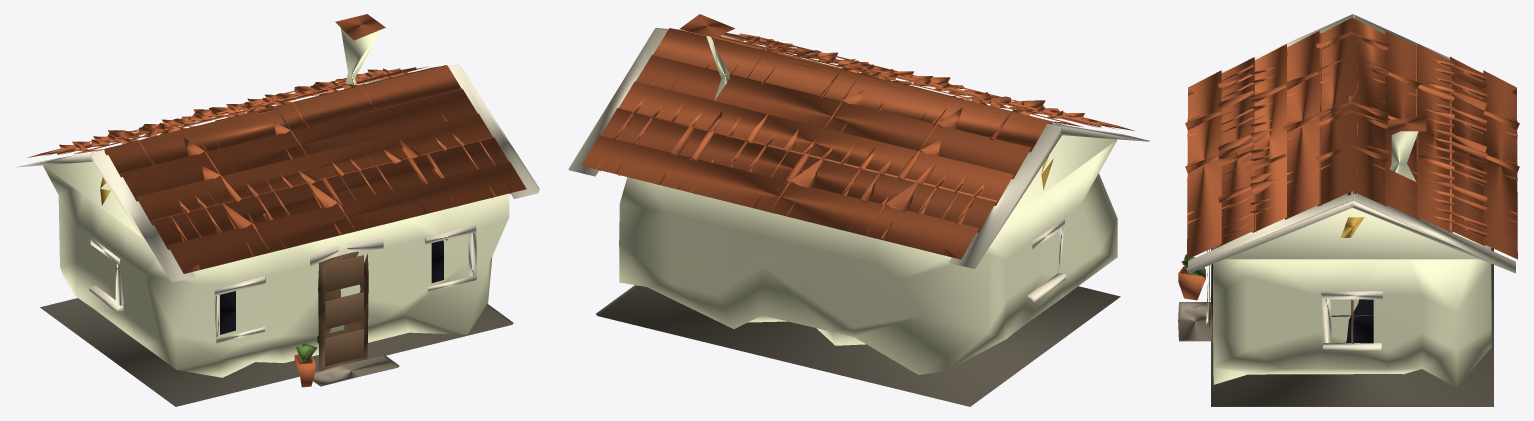
File: home_cottage_t1.glb
3 views of the same model, side by side, from view 1: azimuth 30°, elevation 25°; view 2: azimuth 150°, elevation 25°; view 3: azimuth 270°, elevation 25° (orthographic). The views are drawn at different scales.
Visible parts, largest first — view 1: plaster, terracotta0, terracotta1, terracotta2, stone_dark, cream, wood_dark, stone, dark, terracotta; view 2: plaster, terracotta0, terracotta1, stone_dark, terracotta2, cream; view 3: plaster, terracotta0, terracotta1, terracotta2, stone_dark, cream, stone, dark, terracotta, wood_dark.
Part boxes in pixels (x1,y1,x2,y2): plaster: (43,28,509,377); terracotta0: (27,14,526,273); terracotta1: (44,65,508,251); terracotta2: (60,68,495,248); stone_dark: (40,298,513,406); cream: (15,64,539,343); wood_dark: (318,251,368,371); stone: (313,354,399,386); dark: (220,239,447,343); terracotta: (294,354,315,387); plaster: (619,36,1117,374); terracotta0: (581,14,1134,259); terracotta1: (601,28,1117,235); stone_dark: (596,285,1120,406); terracotta2: (615,31,1098,230); cream: (568,28,1149,302); plaster: (1213,131,1491,387); terracotta0: (1185,31,1519,259); terracotta1: (1185,17,1519,245); terracotta2: (1187,32,1517,242); stone_dark: (1211,247,1493,406); cream: (1186,14,1515,350); stone: (1178,302,1212,341); dark: (1212,264,1373,343); terracotta: (1178,266,1205,300); wood_dark: (1209,248,1373,343).
Size of the model in its own units: 7.29 by 4.66 by 5.66.
